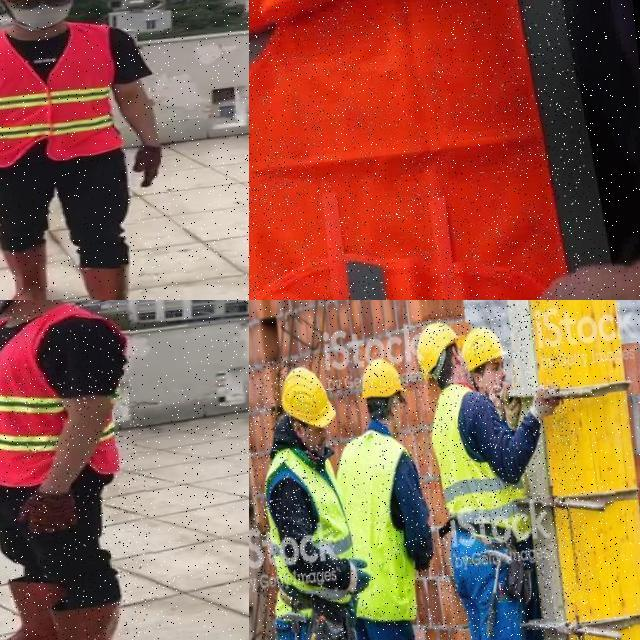boots: (0, 576, 72, 640), (8, 603, 128, 640), (0, 242, 53, 300), (78, 259, 151, 300)
helmet: (279, 364, 340, 433), (416, 318, 464, 379), (359, 359, 412, 413), (461, 323, 512, 374)
vest: (249, 0, 628, 300), (0, 301, 132, 493), (334, 427, 432, 627), (257, 444, 363, 625), (0, 18, 127, 166), (426, 380, 528, 563)
